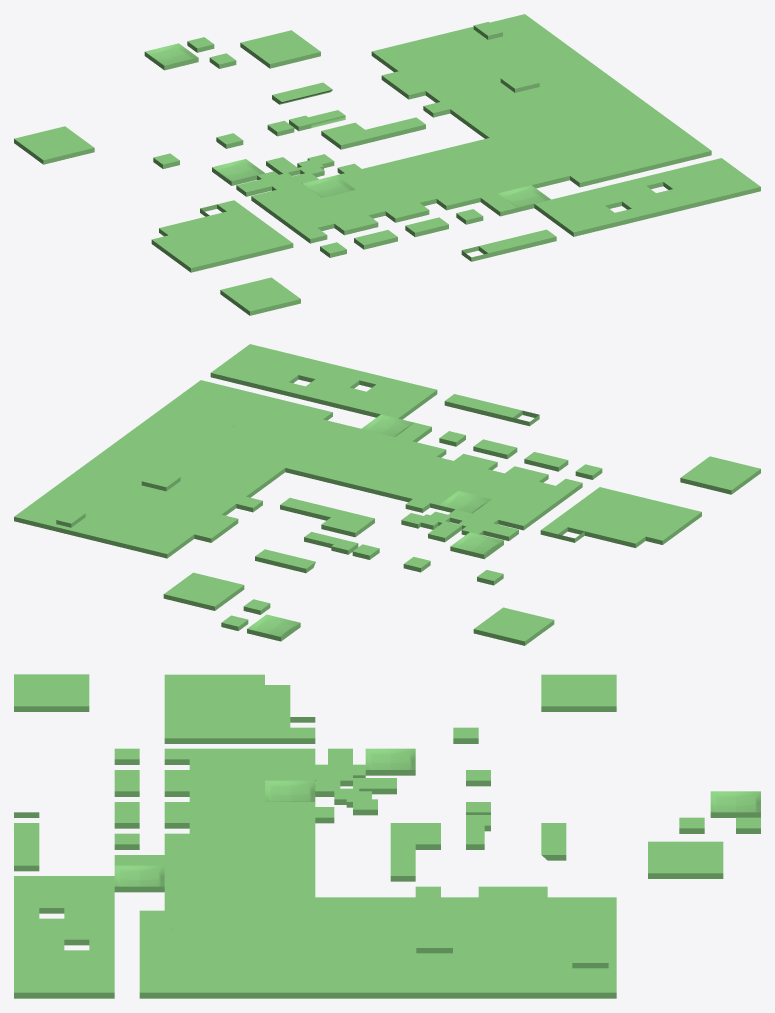
The model's file is object_34_lev2.glb.
3 renders of one model, top to bottom at view 1: azimuth 30°, elevation 25°; view 2: azimuth 150°, elevation 25°; view 3: azimuth 270°, elevation 25°, orthographic. The views are drawn at different scales.
Parts seen in each view (by area): view 1: object_34_lev2; view 2: object_34_lev2; view 3: object_34_lev2.
Part boxes in pixels (x1,y1,x2,y2): object_34_lev2: (14, 14, 760, 315); object_34_lev2: (14, 344, 760, 645); object_34_lev2: (14, 674, 760, 998).
Bounding box in the file's own units: 82.97 × 1.33 × 82.28.
